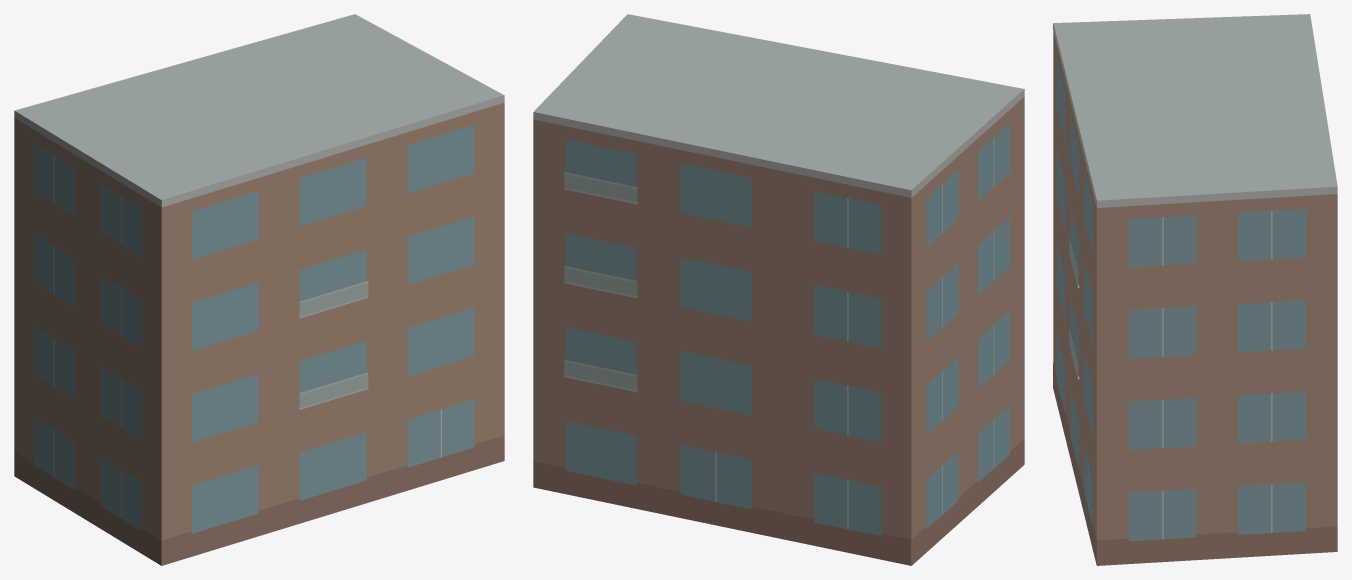
Rendered from survey-upis-33019222.glb.
3 views of the same model, side by side, from view 1: azimuth 30°, elevation 25°; view 2: azimuth 150°, elevation 25°; view 3: azimuth 270°, elevation 25° (orthographic). The views are drawn at different scales.
Parts seen in each view (by area): view 1: survey-upis-33019222.tmp; view 2: survey-upis-33019222.tmp; view 3: survey-upis-33019222.tmp.
Part boxes in pixels (<box>): survey-upis-33019222.tmp: <box>14,14,504,565</box>; survey-upis-33019222.tmp: <box>533,14,1024,565</box>; survey-upis-33019222.tmp: <box>1053,14,1337,565</box>.
Size of the model in its own units: 13.39 by 12.2 by 8.63.
